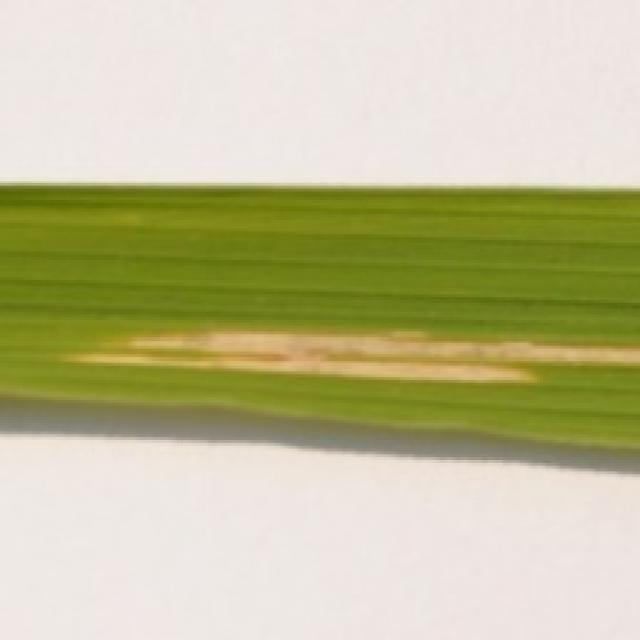Rice___Bacterial_Leaf_Blight: (0, 180, 637, 452)
